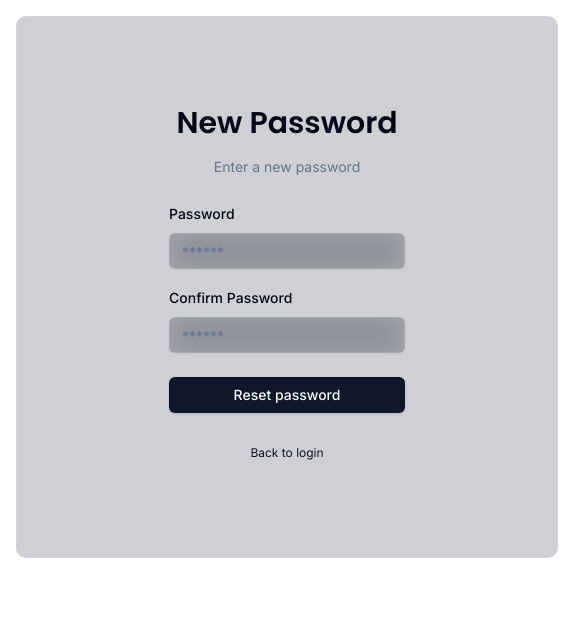
NewPasswordPageView Component › validates required password field
What coordinates should you click on to do the following:
click the button "Reset password"
I would click on:
 (287, 395)
Its box is [169,377,405,413].
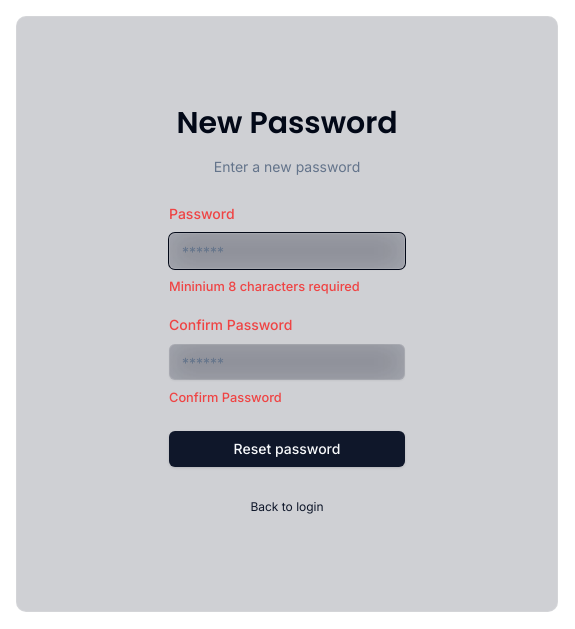
Check: the text "Mininium 8 characters required" is shown, box [169,279,360,294]
